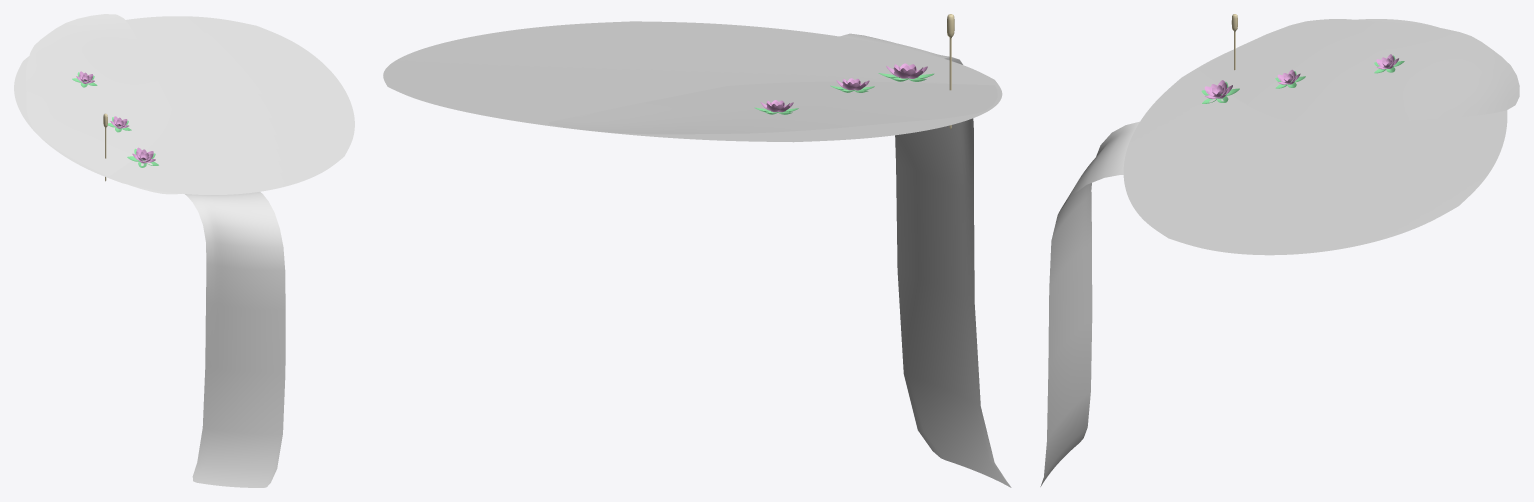
The model's file is Water.fbx.
3 views of the same model, side by side, from view 1: azimuth 30°, elevation 25°; view 2: azimuth 150°, elevation 25°; view 3: azimuth 270°, elevation 25° (orthographic). The views are drawn at different scales.
Visible parts, largest first — view 1: Plane.008, Plane.010, Plane.004, Plane.003; view 2: Plane.008, Plane.010, Plane.004, Plane.003; view 3: Plane.008, Plane.004, Plane.010, Plane.003.
Part boxes in pixels (x1,y1,x2,y2): Plane.008: (14,16,354,194); Plane.010: (185,192,285,487); Plane.004: (26,14,182,194); Plane.003: (72,71,158,167); Plane.008: (383,21,1002,142); Plane.010: (839,33,1011,487); Plane.004: (549,81,997,134); Plane.003: (754,63,934,114); Plane.008: (1123,19,1507,255); Plane.004: (1198,19,1519,127); Plane.010: (1040,121,1139,486); Plane.003: (1201,54,1404,103).
Size of the model in its own units: 1.55 by 1.59 by 1.64.
